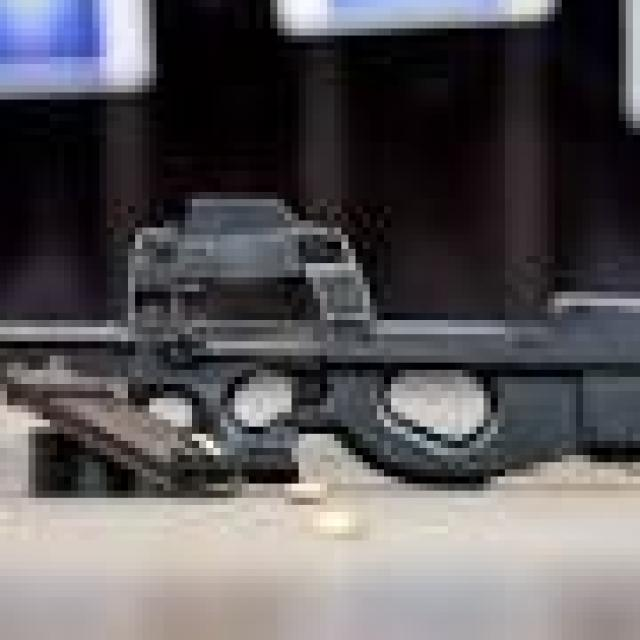Gun: (0, 171, 640, 519)
